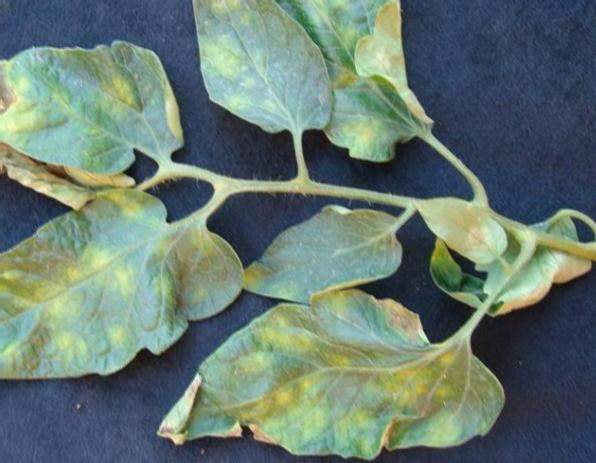Tomato mold leaf: (147, 285, 519, 463), (0, 192, 242, 391), (237, 0, 458, 160), (0, 30, 190, 174), (172, 0, 358, 139), (222, 207, 430, 305), (398, 187, 525, 271)
